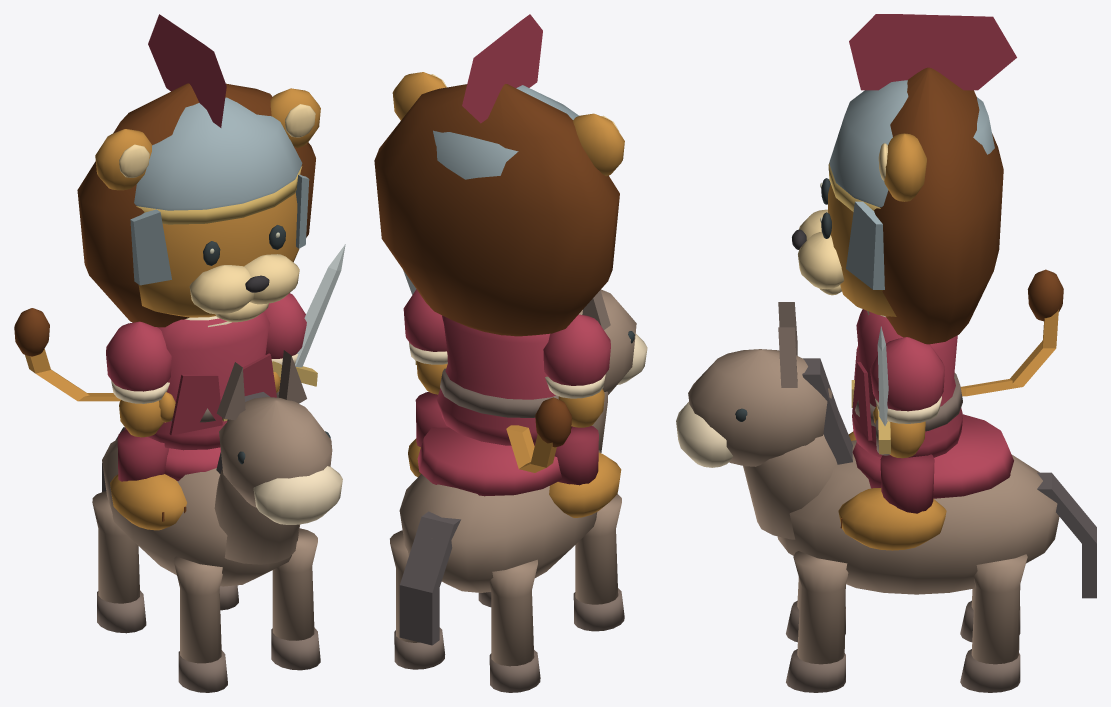
Rendered from rider.glb.
3 renders of one model, left to right at view 1: azimuth 30°, elevation 25°; view 2: azimuth 150°, elevation 25°; view 3: azimuth 270°, elevation 25°, orthographic. The views are drawn at different scales.
Parts seen in each view (by area): view 1: Regional helmet, Lion full mane, Pony head, Animal cheek head, Plump pony body, Short folded tunic, Roman horsehair fan, Pony neck, Pony stubby leg, Pony stubby leg.001, Puff sleeve, Pony muzzle (+27 smaller); view 2: Lion full mane, Plump pony body, Short folded tunic, Saddle blanket, Pony tail, Roman horsehair fan, Pony stubby leg.002, Puff sleeve, Pony stubby leg, Regional helmet, Soft animal paw, Lion round ear (+18 smaller); view 3: Lion full mane, Plump pony body, Pony head, Roman horsehair fan, Regional helmet, Pony neck, Saddle blanket, Pony stubby leg.001, Pony stubby leg.003, Soft animal paw.001, Short folded tunic, Puff sleeve.001 (+18 smaller).
Boxes of the visible parts, box(x1,y1,x2,y2) form: Regional helmet: box(134, 97, 302, 210); Lion full mane: box(77, 83, 315, 327); Pony head: box(219, 397, 332, 507); Animal cheek head: box(138, 192, 299, 317); Plump pony body: box(102, 439, 300, 586); Short folded tunic: box(147, 312, 270, 450); Roman horsehair fan: box(148, 14, 226, 127); Pony neck: box(214, 468, 299, 564); Pony stubby leg: box(174, 556, 222, 663); Pony stubby leg.001: box(272, 528, 317, 640); Puff sleeve: box(106, 321, 171, 391); Pony muzzle: box(253, 466, 342, 524); Lion full mane: box(374, 84, 619, 336); Plump pony body: box(399, 450, 600, 592); Short folded tunic: box(437, 315, 572, 445); Saddle blanket: box(417, 427, 562, 496); Pony tail: box(399, 511, 460, 645); Roman horsehair fan: box(462, 14, 542, 123); Pony stubby leg.002: box(489, 559, 537, 666); Puff sleeve: box(543, 314, 610, 385); Pony stubby leg: box(575, 494, 621, 604); Regional helmet: box(433, 85, 578, 179); Soft animal paw: box(549, 452, 621, 517); Lion round ear: box(573, 113, 624, 176); Lion full mane: box(874, 67, 1003, 344); Plump pony body: box(777, 440, 1059, 594); Pony head: box(688, 349, 832, 466); Roman horsehair fan: box(849, 14, 1016, 90); Regional helmet: box(829, 80, 994, 207); Pony neck: box(743, 434, 837, 539); Saddle blanket: box(852, 414, 1013, 498); Pony stubby leg.001: box(793, 551, 848, 664); Pony stubby leg.003: box(971, 554, 1027, 664); Soft animal paw.001: box(838, 488, 946, 550); Short folded tunic: box(852, 309, 962, 457); Puff sleeve.001: box(870, 337, 944, 411).
Size of the model in its own units: 1.03 by 2.35 by 1.4.
